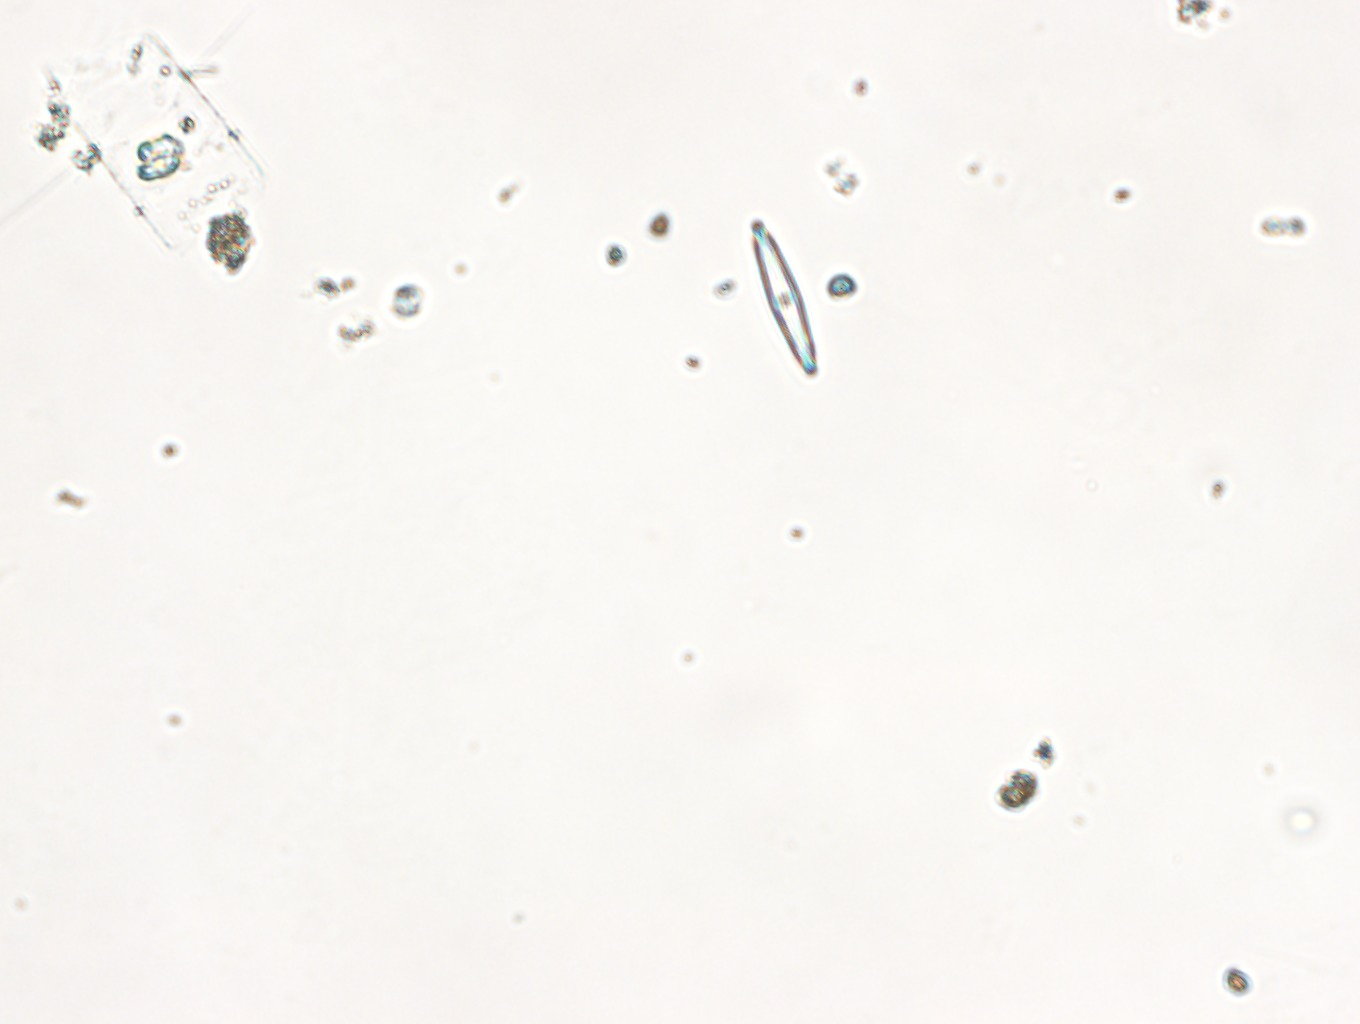navicula: (748, 207, 822, 375)
